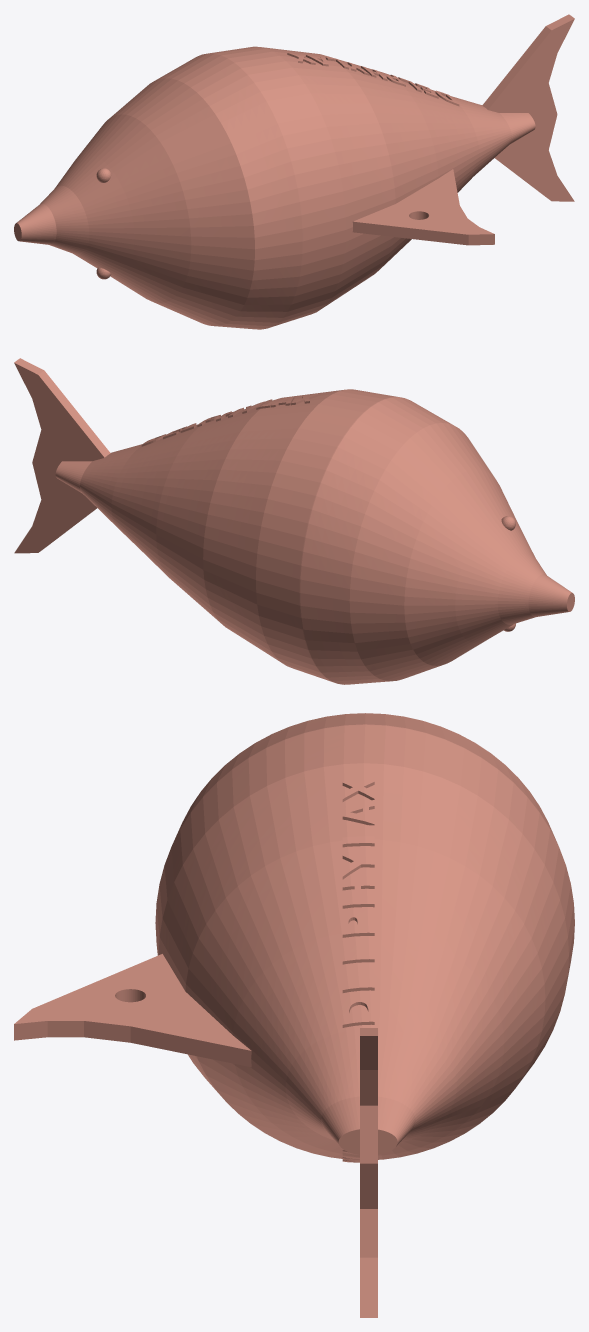
Rendered from delphylax_pod.glb.
3 views of the same model, one above another, from view 1: azimuth 30°, elevation 25°; view 2: azimuth 150°, elevation 25°; view 3: azimuth 270°, elevation 25° (orthographic). The views are drawn at different scales.
Visible parts, largest first — view 1: delphylax_pod_whole_for_website.stl; view 2: delphylax_pod_whole_for_website.stl; view 3: delphylax_pod_whole_for_website.stl.
Part boxes in pixels (left/top/right/bottom): delphylax_pod_whole_for_website.stl: left=14, top=14, right=574, bottom=329; delphylax_pod_whole_for_website.stl: left=14, top=358, right=574, bottom=684; delphylax_pod_whole_for_website.stl: left=14, top=713, right=574, bottom=1317.
Bounding box in the file's own units: 372 × 169 × 216.
